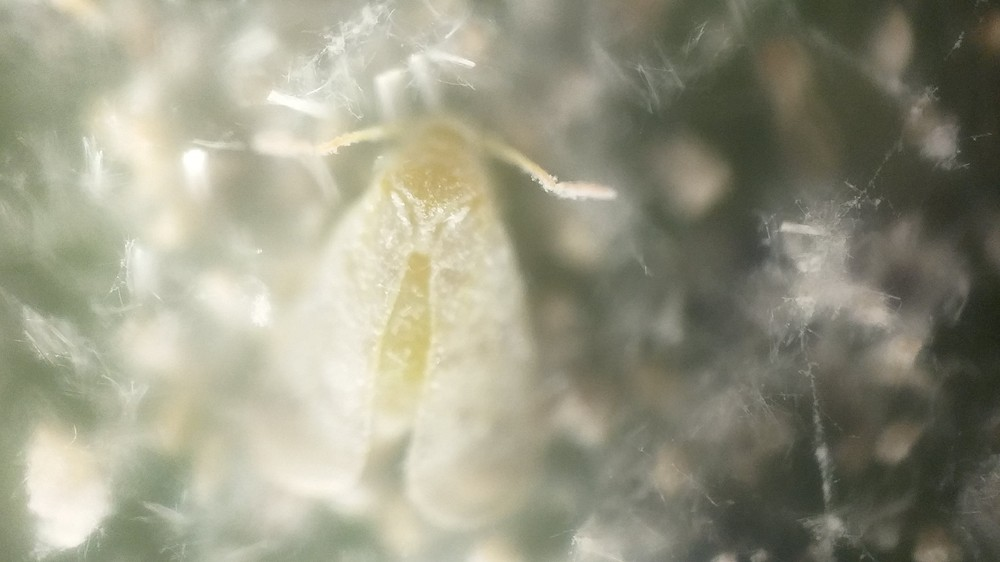Mosca Blanca: (238, 102, 635, 547)
